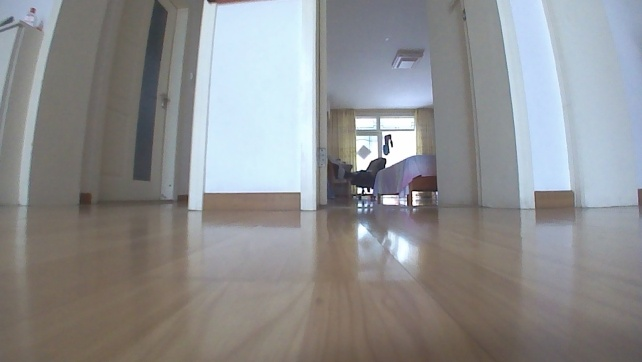bed1: (373, 151, 437, 206)
door_anno: (77, 0, 189, 204)
